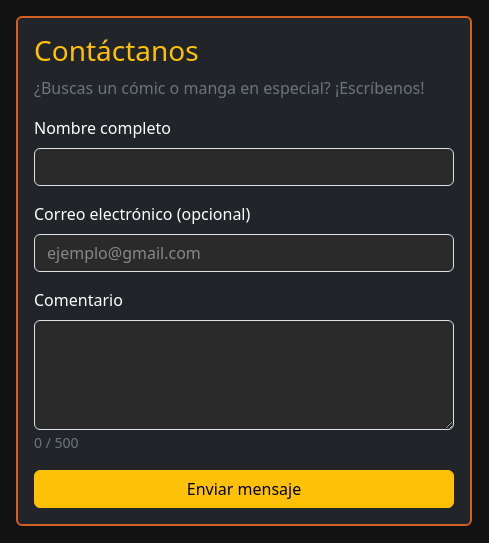
Test: Página Contacto › debería actualizar el contador de caracteres al escribir
In the text box labelled "Comentario": (244, 375) [34, 320, 454, 430], type "Hola!"
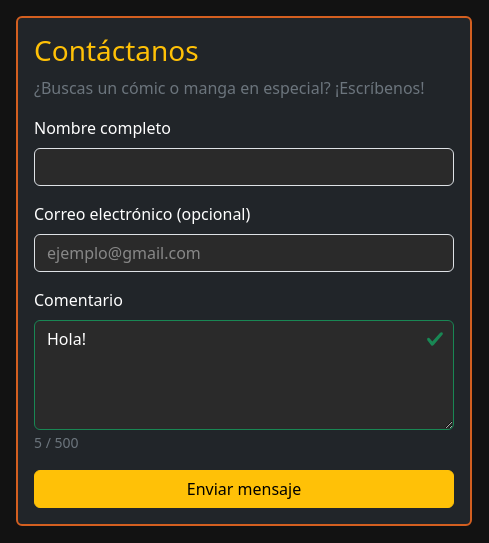
Check: the text "5 / 500" is shown, box [34, 433, 78, 452]
